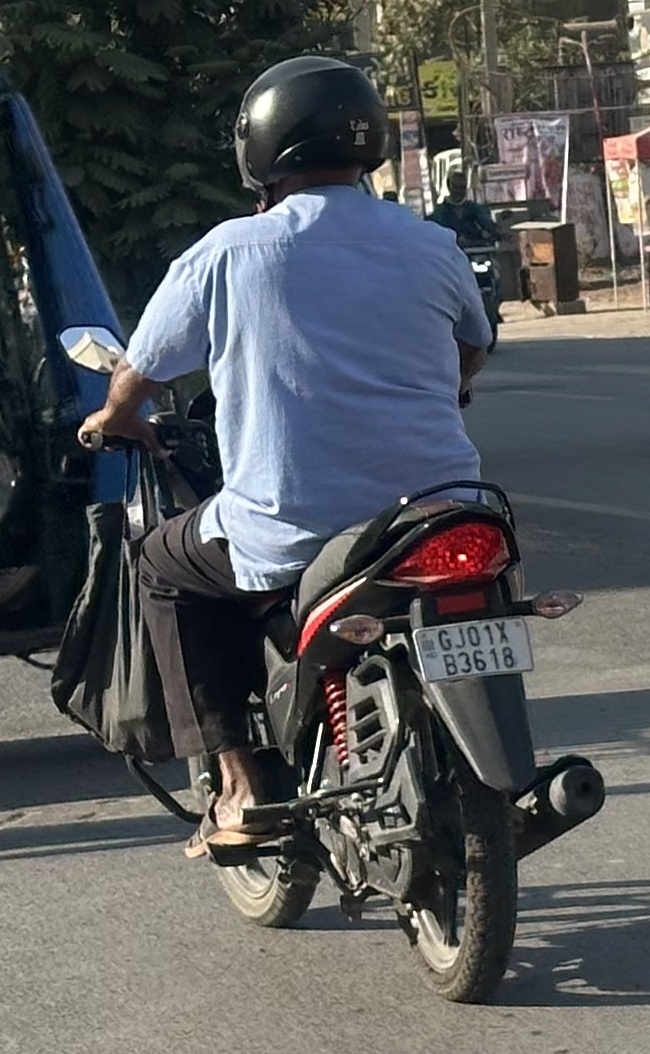BikeWithRider: (39, 44, 607, 1004)
Helmet: (226, 47, 399, 218)
